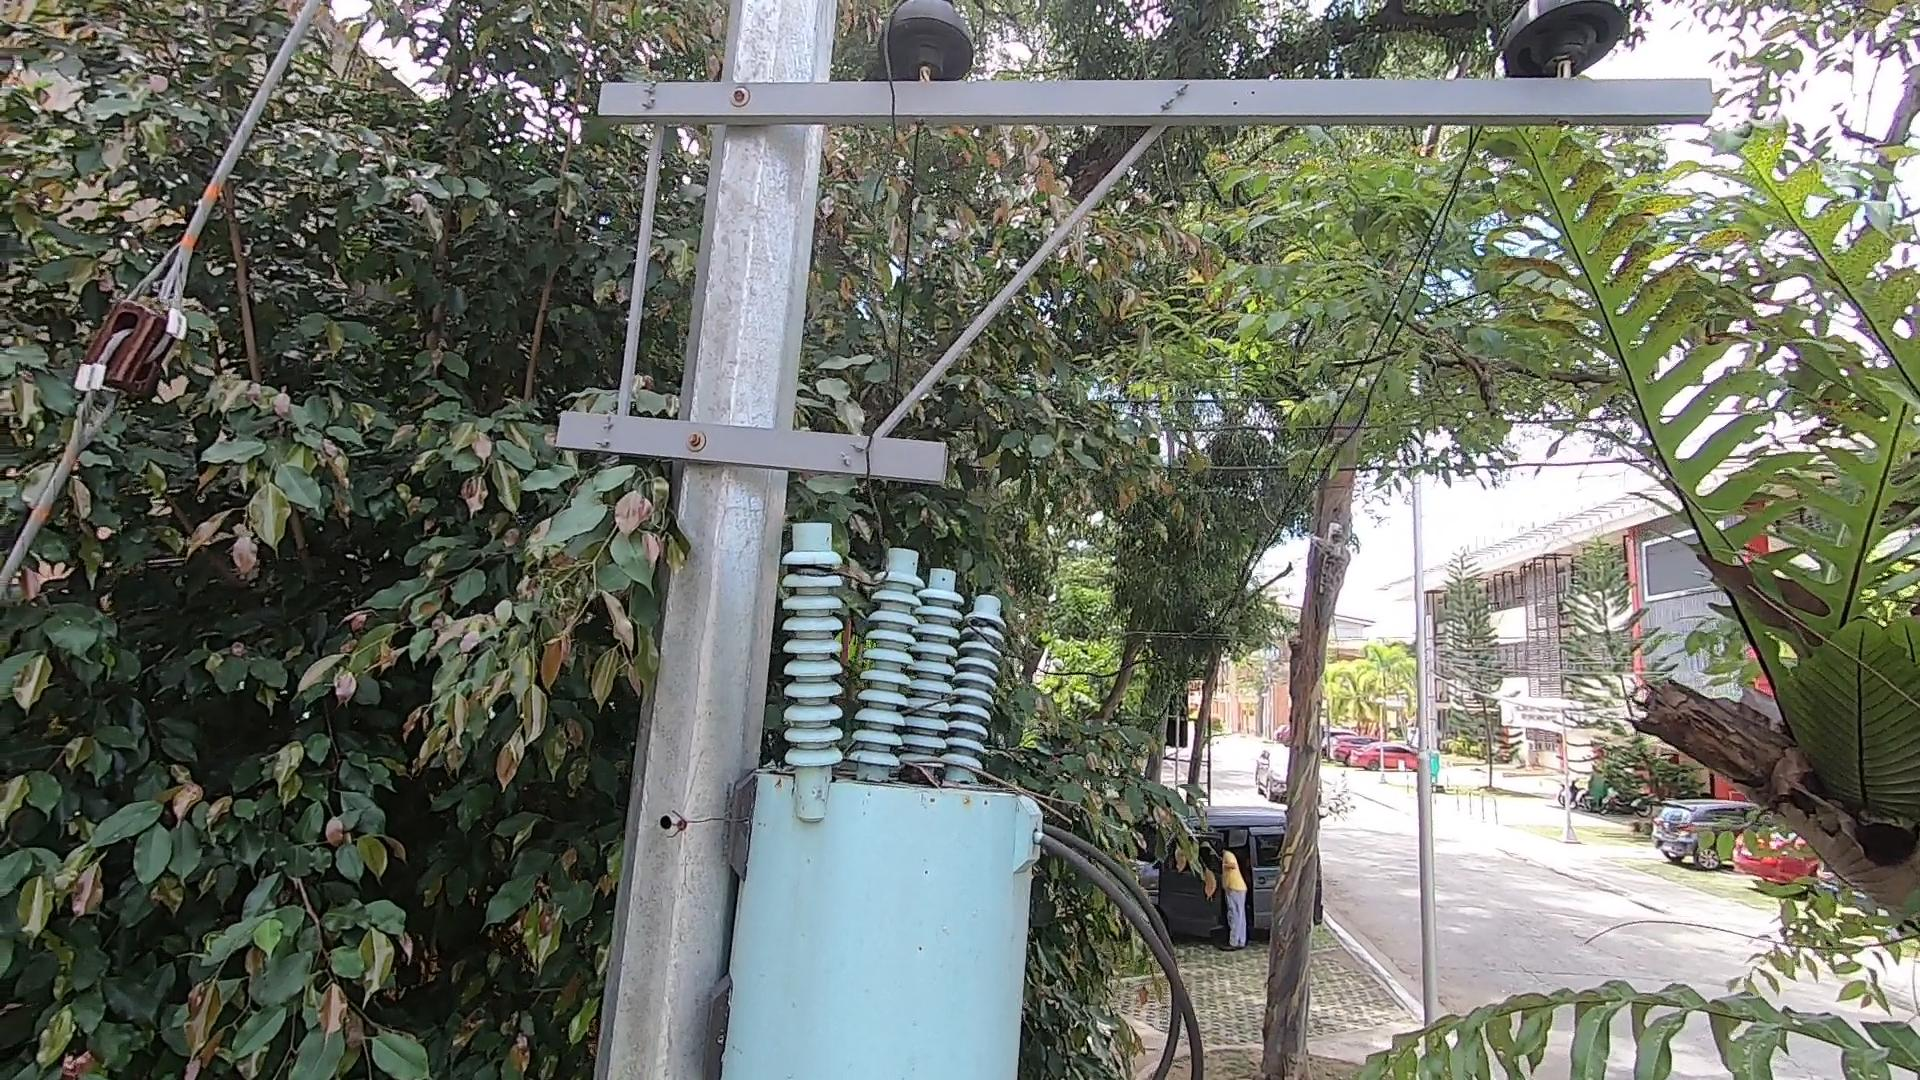leaf: (884, 752, 944, 810)
tree branch: (819, 719, 1095, 848)
